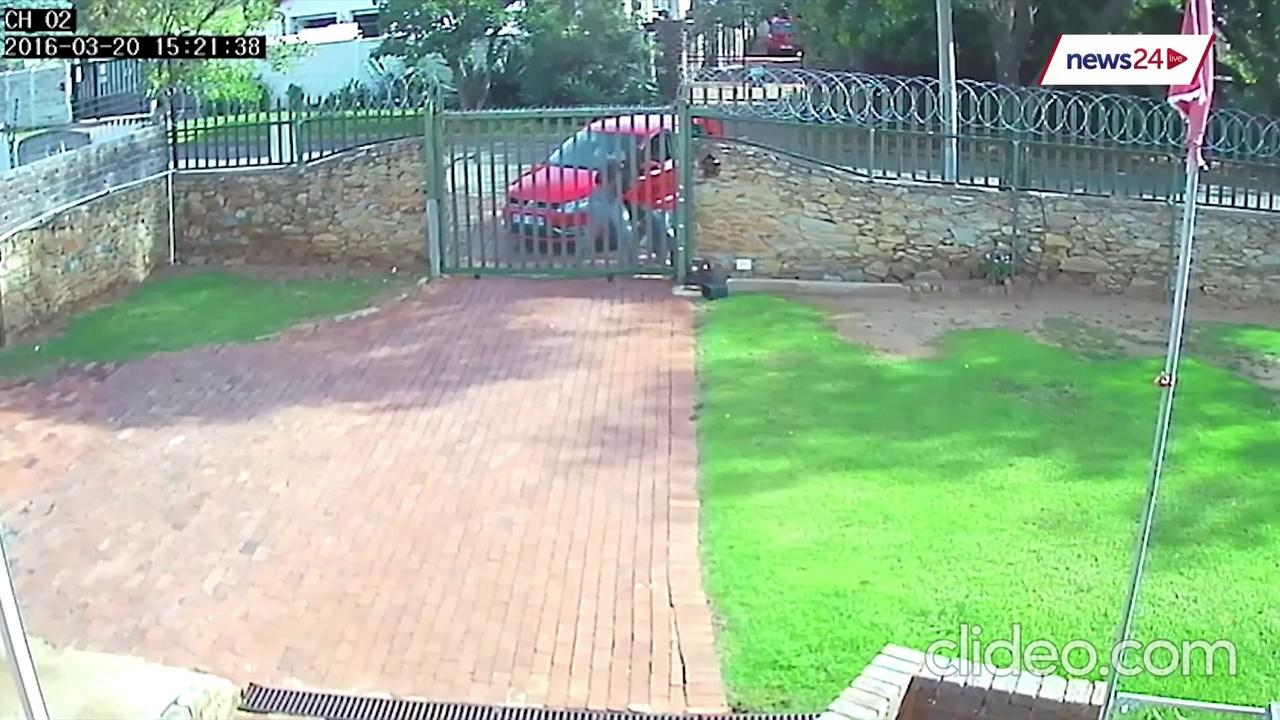suspicion: (570, 138, 646, 284), (636, 134, 692, 284)
